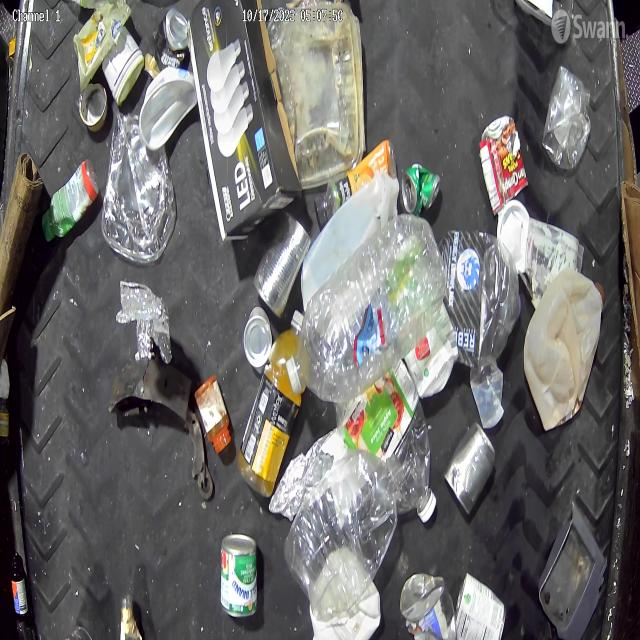can: (255, 211, 310, 318), (444, 423, 495, 517), (481, 115, 529, 214), (455, 569, 508, 640), (218, 533, 260, 620), (153, 7, 190, 71), (402, 158, 442, 214), (244, 306, 274, 370), (77, 80, 109, 130)
plastic_bottle: (287, 210, 443, 404), (284, 443, 398, 604), (338, 368, 432, 518), (444, 228, 520, 370)
